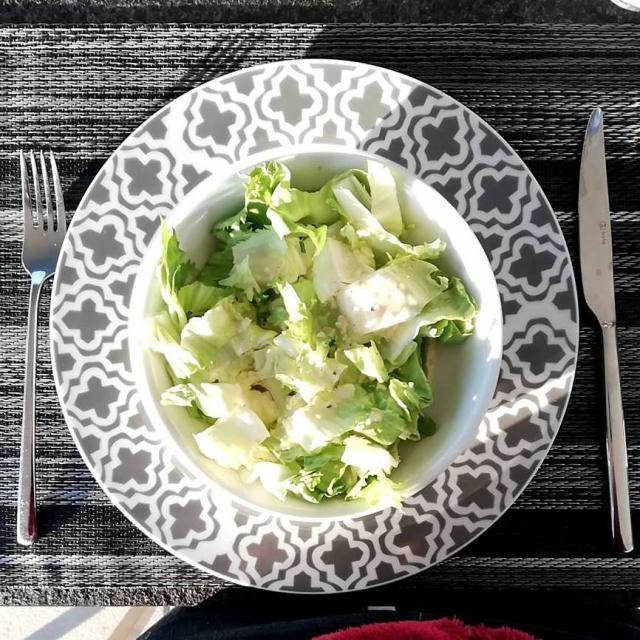salad: (156, 163, 467, 510)
